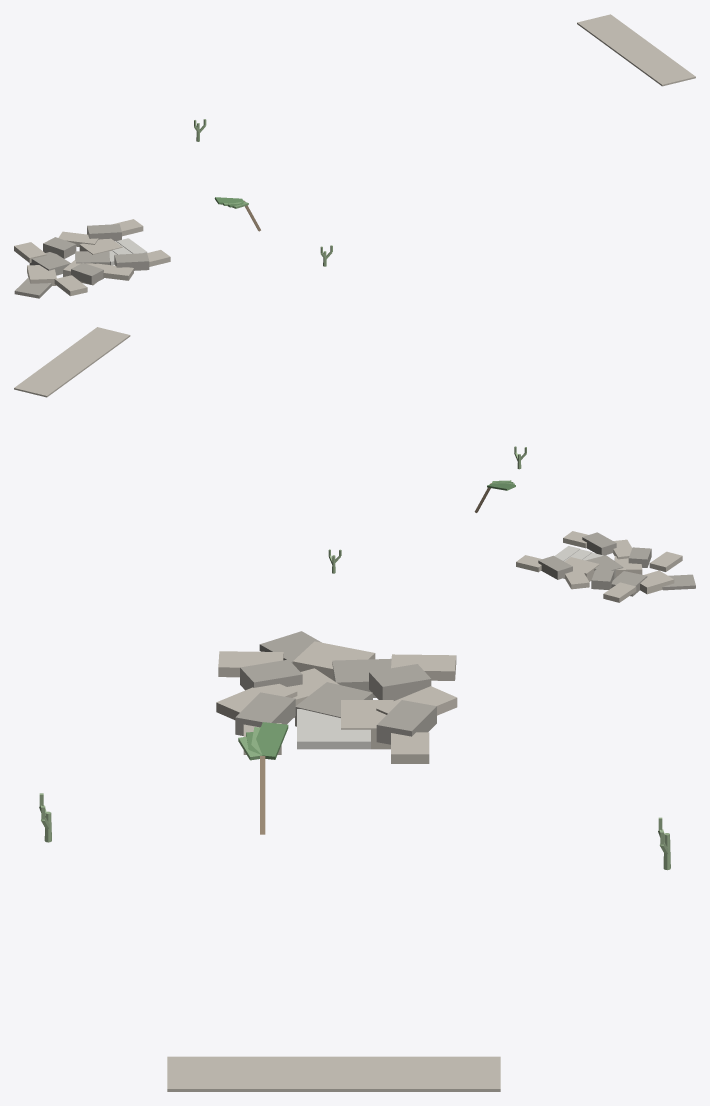
The model's file is nw_tres.glb.
The picture shows the model from 3 angles, top to bottom: view 1: azimuth 30°, elevation 25°; view 2: azimuth 150°, elevation 25°; view 3: azimuth 270°, elevation 25°; orthographic projection. The views are drawn at different scales.
Parts seen in each view (by area): view 1: nw_tres_lod0; view 2: nw_tres_lod0; view 3: nw_tres_lod0.
Part boxes in pixels (x1,y1,x2,y2): nw_tres_lod0: (14,14,695,298); nw_tres_lod0: (14,327,695,602); nw_tres_lod0: (39,631,670,1091).
Size of what is drawn, in the model's own units: 61.35 by 7.69 by 26.55.
